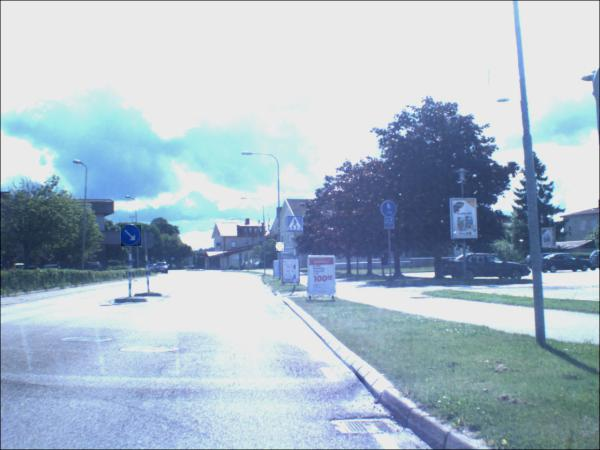PASS_RIGHT_SIDE: (122, 226, 143, 248)
PEDESTRIAN_CROSSING: (288, 218, 305, 233)
PRIORITY_ROAD: (277, 243, 286, 253)
